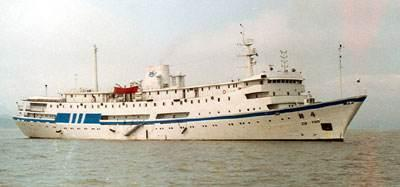youlun: (14, 46, 371, 139)
